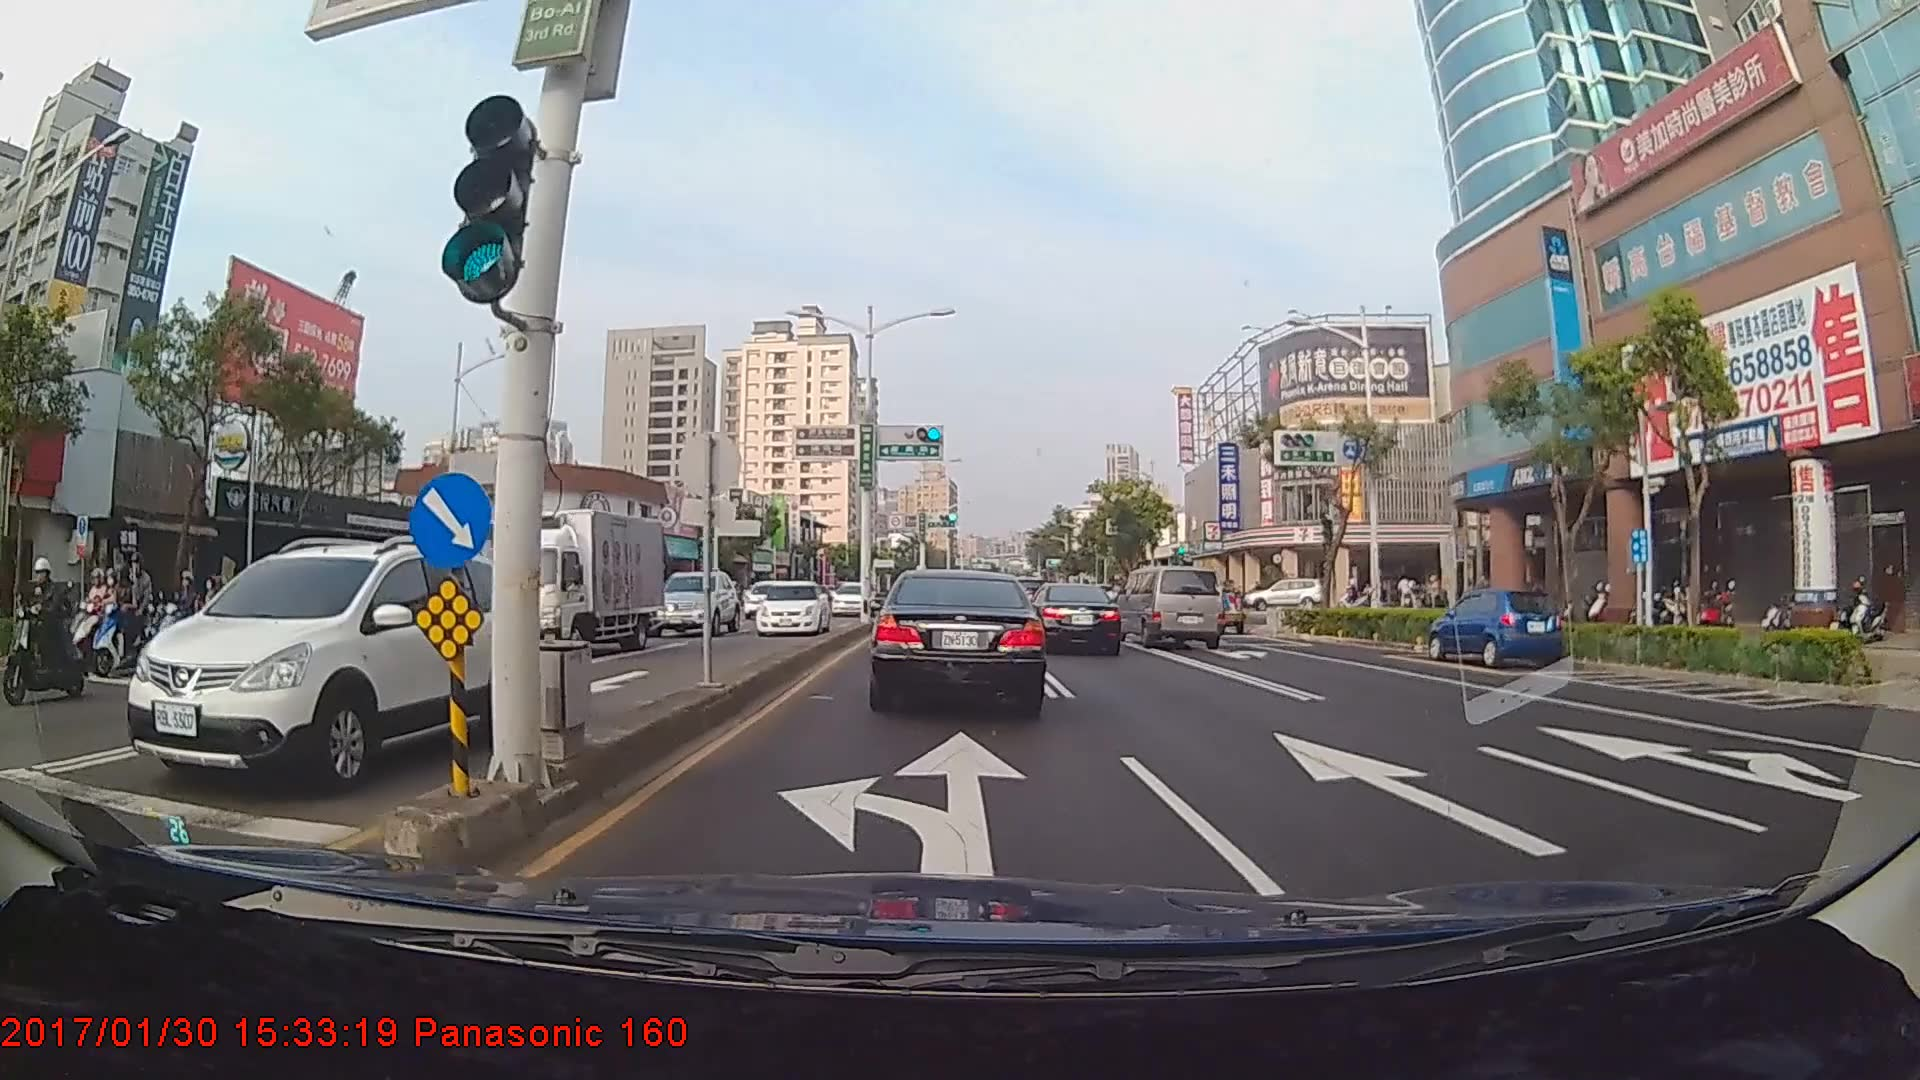rider: (6, 559, 102, 707), (83, 556, 170, 678)
vehicle: (140, 534, 485, 784), (492, 509, 664, 658), (874, 564, 1044, 712), (1424, 584, 1564, 669), (1119, 565, 1225, 651), (1030, 582, 1122, 654), (645, 568, 738, 636), (748, 575, 825, 637), (1242, 579, 1322, 612), (742, 580, 791, 618), (829, 577, 867, 618)
